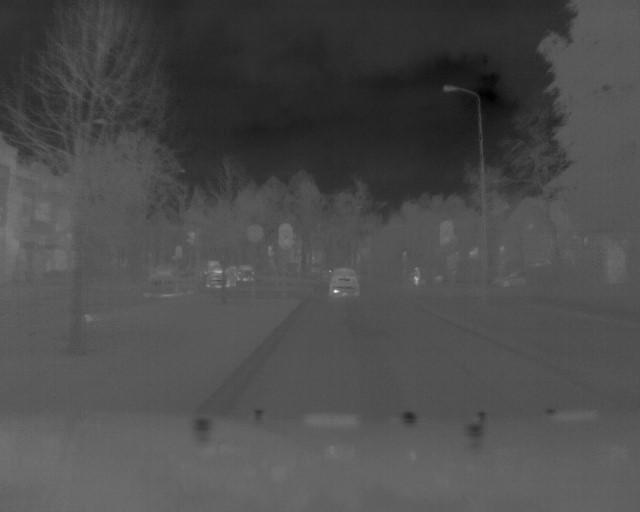car: (143, 258, 201, 302), (327, 263, 363, 297), (205, 267, 237, 289)
person: (408, 262, 423, 291)
